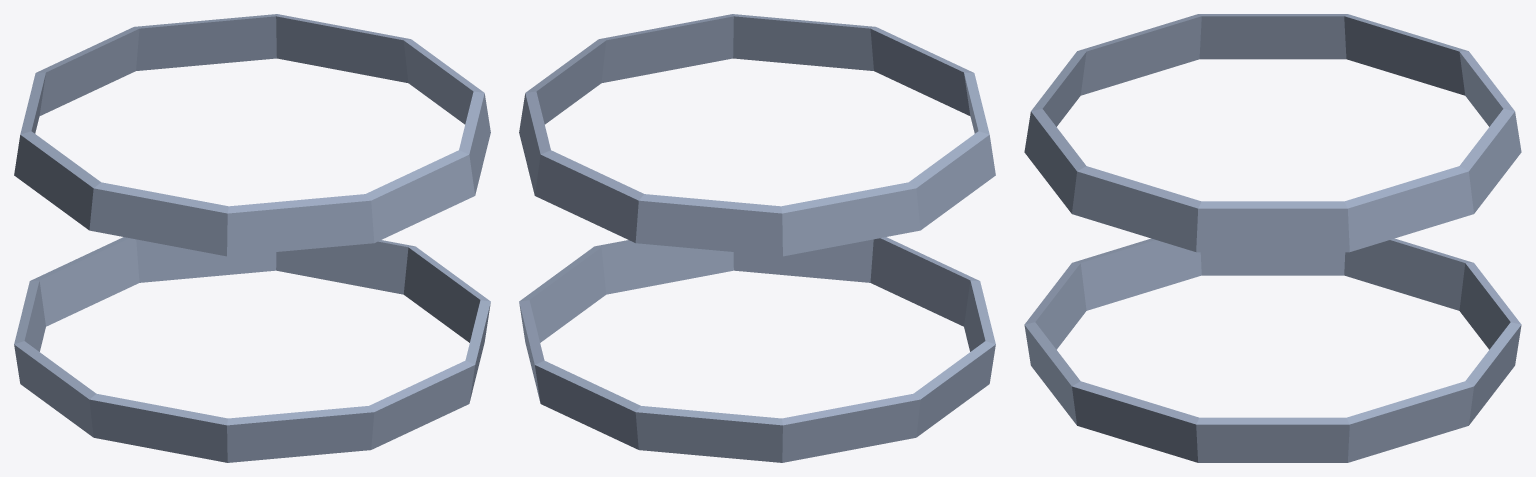
Rendered from n2_barrel_light_grey_0_lev2.002.glb.
3 renders of one model, left to right at view 1: azimuth 30°, elevation 25°; view 2: azimuth 150°, elevation 25°; view 3: azimuth 270°, elevation 25°, orthographic.
Parts seen in each view (by area): view 1: n2_barrel_light_grey_0_lev2.002; view 2: n2_barrel_light_grey_0_lev2.002; view 3: n2_barrel_light_grey_0_lev2.002.
Part boxes in pixels (x1,y1,x2,y2): n2_barrel_light_grey_0_lev2.002: (14,14,490,462); n2_barrel_light_grey_0_lev2.002: (519,14,995,462); n2_barrel_light_grey_0_lev2.002: (1024,14,1521,462).
Bounding box in the file's own units: 1.38 × 0.8362 × 1.45.
